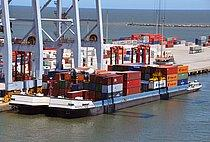Ship: (52, 59, 206, 121)
